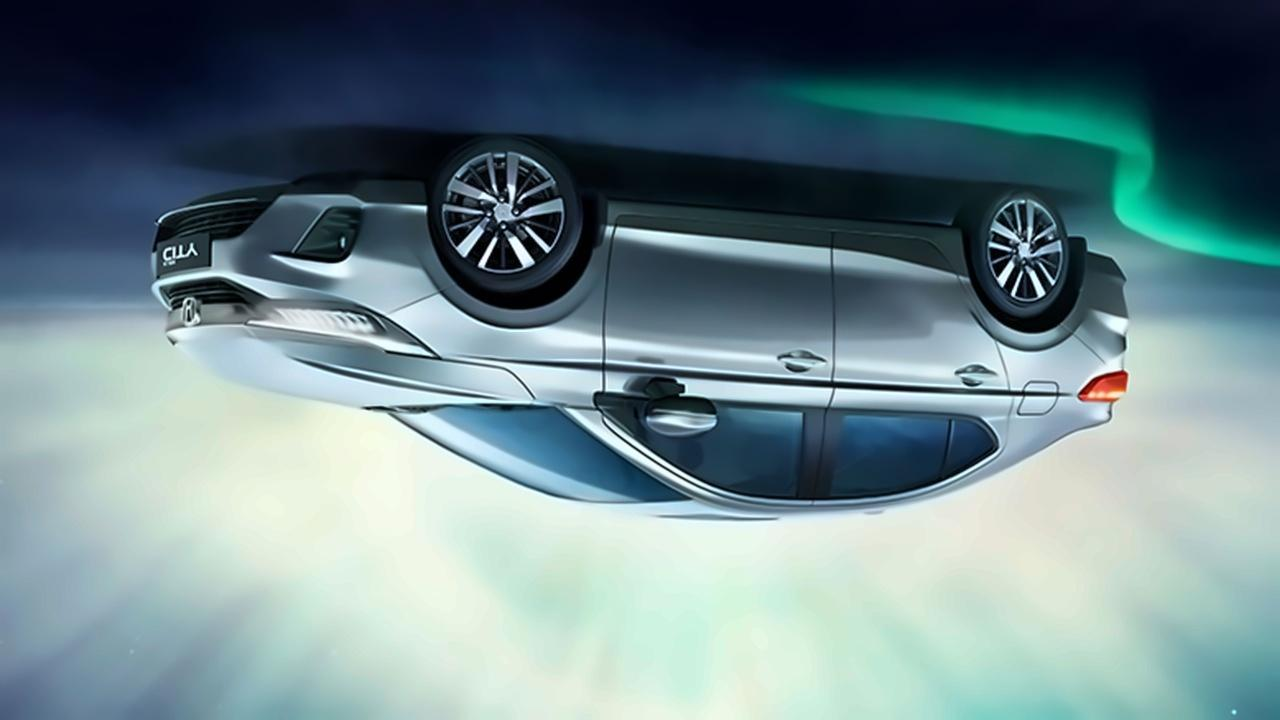Car hood: (162, 320, 538, 418)
Driver-s door - -F-R-: (605, 214, 834, 520)
Fender - -F-R-: (385, 201, 615, 416)
Fender - -R-R-: (951, 224, 1103, 424)
Front bumper: (141, 166, 460, 298)
Headlight - -R-: (239, 296, 401, 358)
Passenger-s door - -R-R-: (834, 227, 1014, 515)
Rear bumper: (1061, 234, 1138, 352)
Rear light - -R-: (1073, 364, 1132, 411)
Side bumper - -R-: (584, 194, 974, 275)
Side mirror - -R-: (636, 375, 720, 443)
